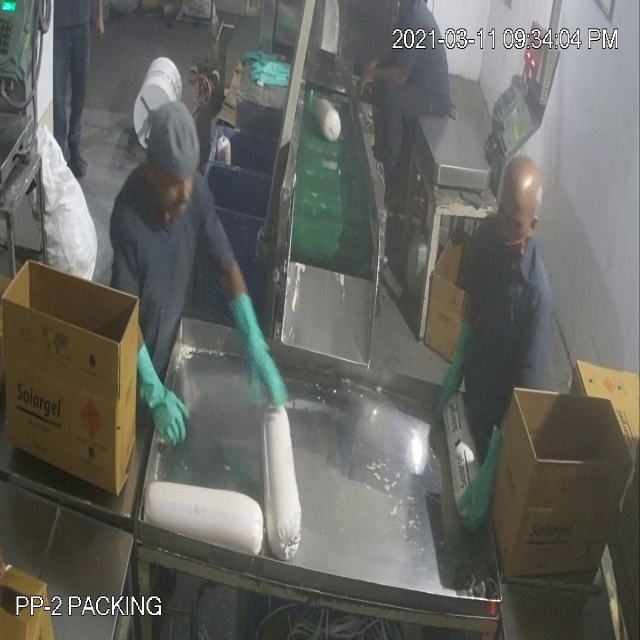Guantes: (219, 281, 306, 422), (449, 420, 510, 533), (135, 339, 195, 452), (427, 319, 483, 420)
Sin_guantes: (349, 52, 420, 97)
